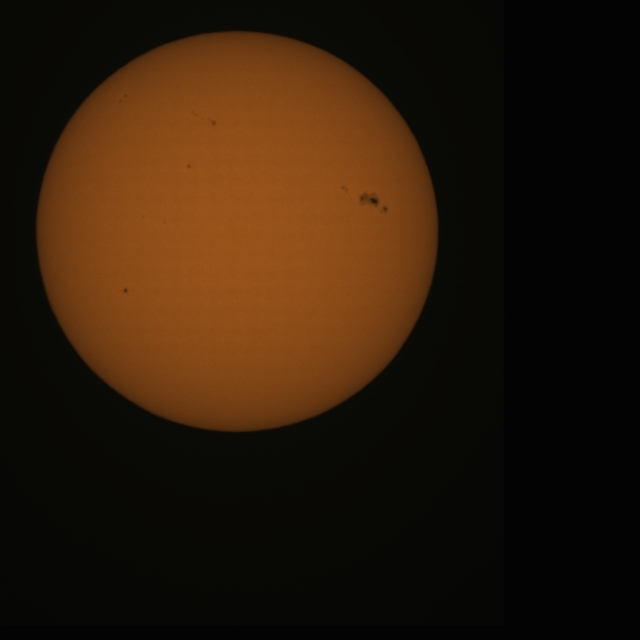sunspot: (358, 190, 389, 215), (191, 110, 217, 127), (114, 93, 128, 103), (340, 184, 350, 194), (208, 116, 217, 127), (122, 286, 129, 295), (162, 218, 168, 227), (186, 163, 192, 170)
